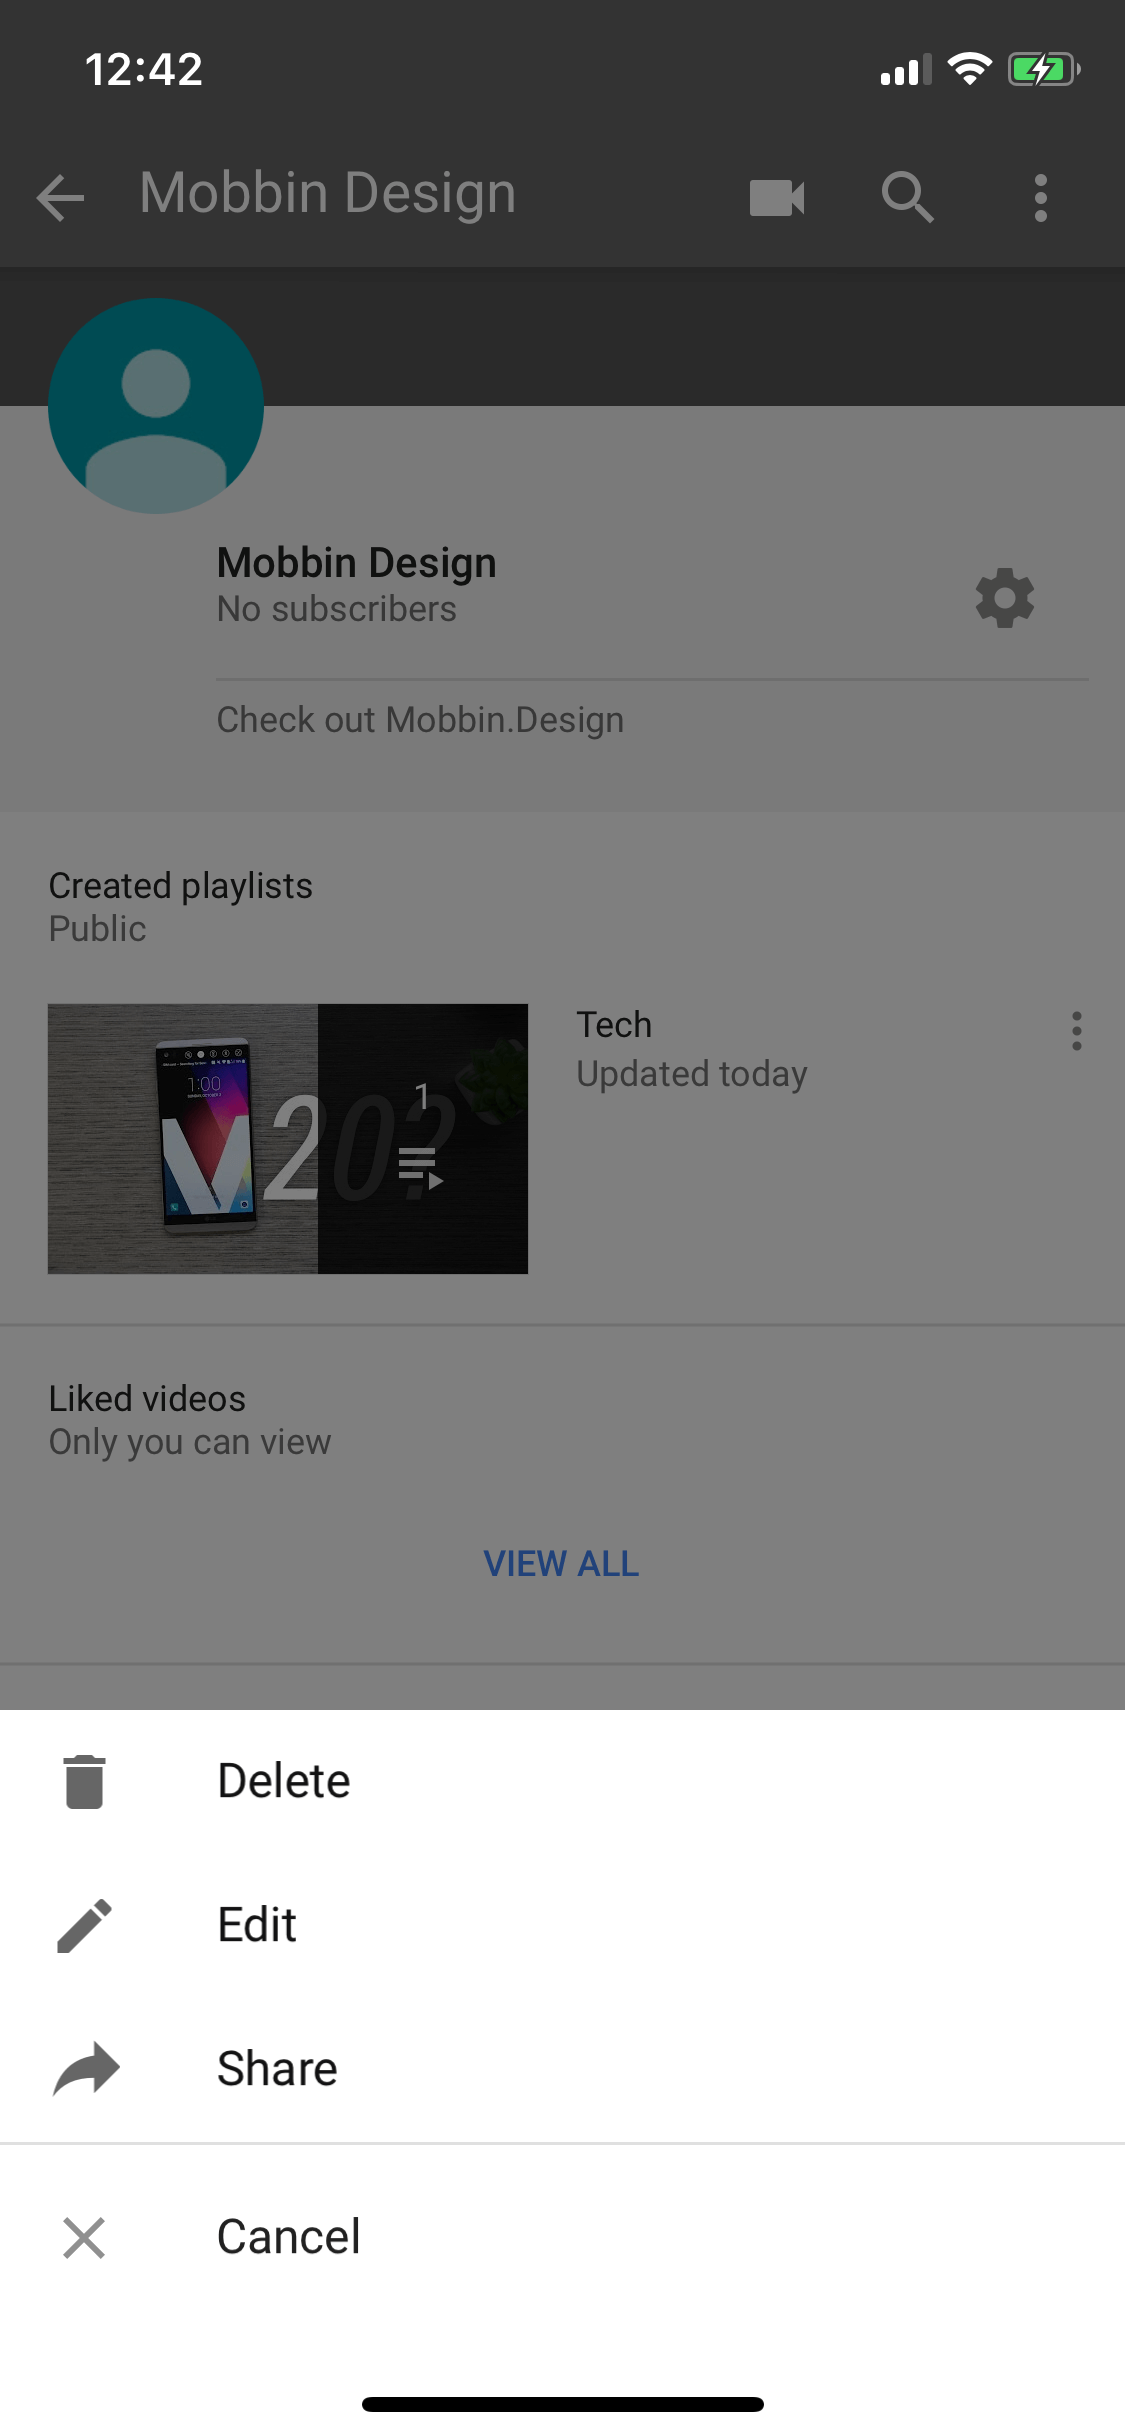Buttons: (395, 1512, 719, 1617), (713, 134, 834, 253), (5, 134, 117, 253), (858, 134, 963, 252), (993, 134, 1088, 252), (954, 541, 1050, 649), (1026, 982, 1117, 1074)
